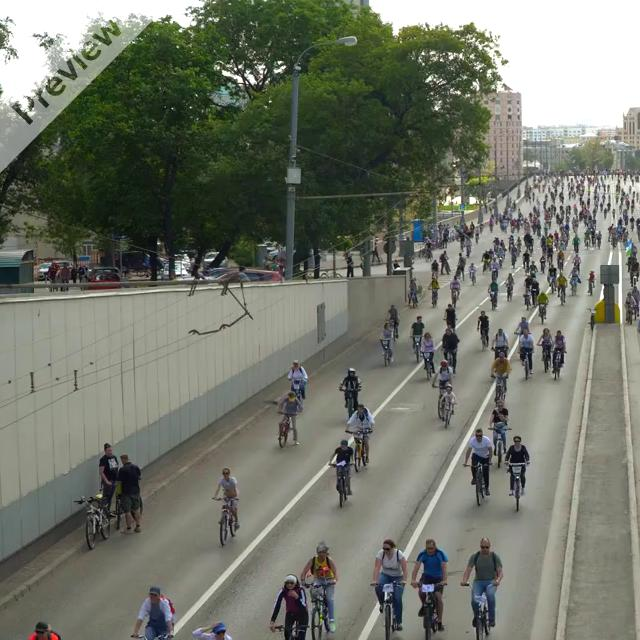bicycle: (369, 580, 405, 639), (73, 493, 110, 550), (460, 581, 496, 639), (411, 581, 446, 639), (303, 580, 336, 639), (211, 496, 239, 546), (504, 461, 530, 511), (344, 427, 372, 472), (463, 461, 490, 506), (328, 461, 353, 507), (487, 424, 511, 468), (276, 409, 300, 448), (441, 384, 458, 429), (339, 386, 360, 418), (490, 372, 508, 404), (551, 347, 566, 380), (419, 350, 435, 380), (520, 347, 534, 379), (379, 337, 394, 366), (288, 377, 306, 400), (442, 347, 457, 374), (539, 344, 552, 372), (411, 335, 422, 362), (477, 327, 489, 351), (388, 318, 399, 339)
